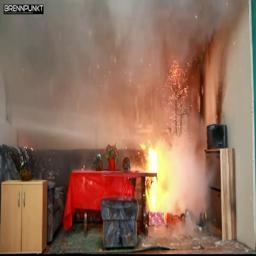fire: (138, 140, 176, 204)
smoke: (184, 130, 207, 215)
